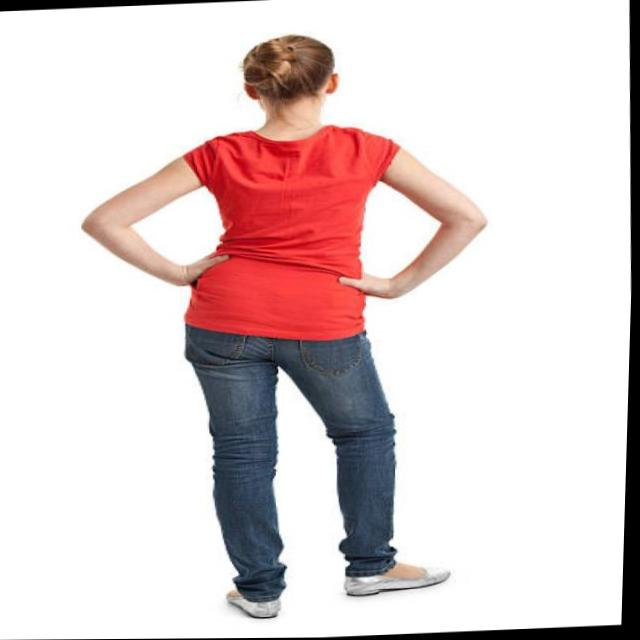no helmet: (195, 24, 362, 161)
